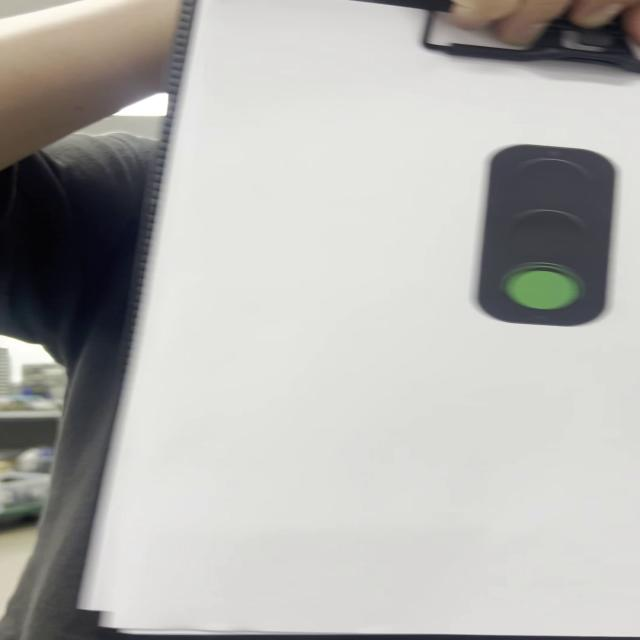green: (488, 142, 612, 327)
